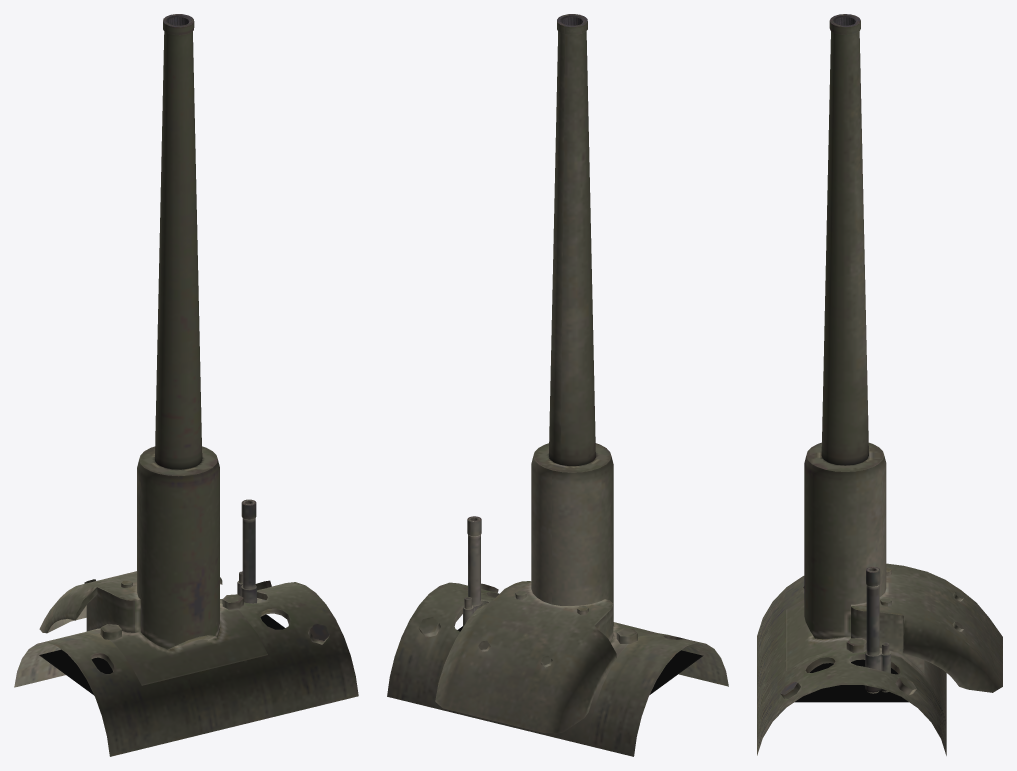
The model's file is Gun_05.glb.
The picture shows the model from 3 angles, left to right: view 1: azimuth 30°, elevation 25°; view 2: azimuth 150°, elevation 25°; view 3: azimuth 270°, elevation 25°; orthographic projection.
Parts seen in each view (by area): view 1: set_0_group_0; view 2: set_0_group_0; view 3: set_0_group_0.
Boxes of the visible parts, x1,y1,x2,y2 form: set_0_group_0: (14, 14, 358, 756); set_0_group_0: (387, 14, 728, 756); set_0_group_0: (757, 14, 1002, 755).
Bounding box in the file's own units: 0.4925 × 1.28 × 0.4252.
Materials: 1 (1 with a texture image).
